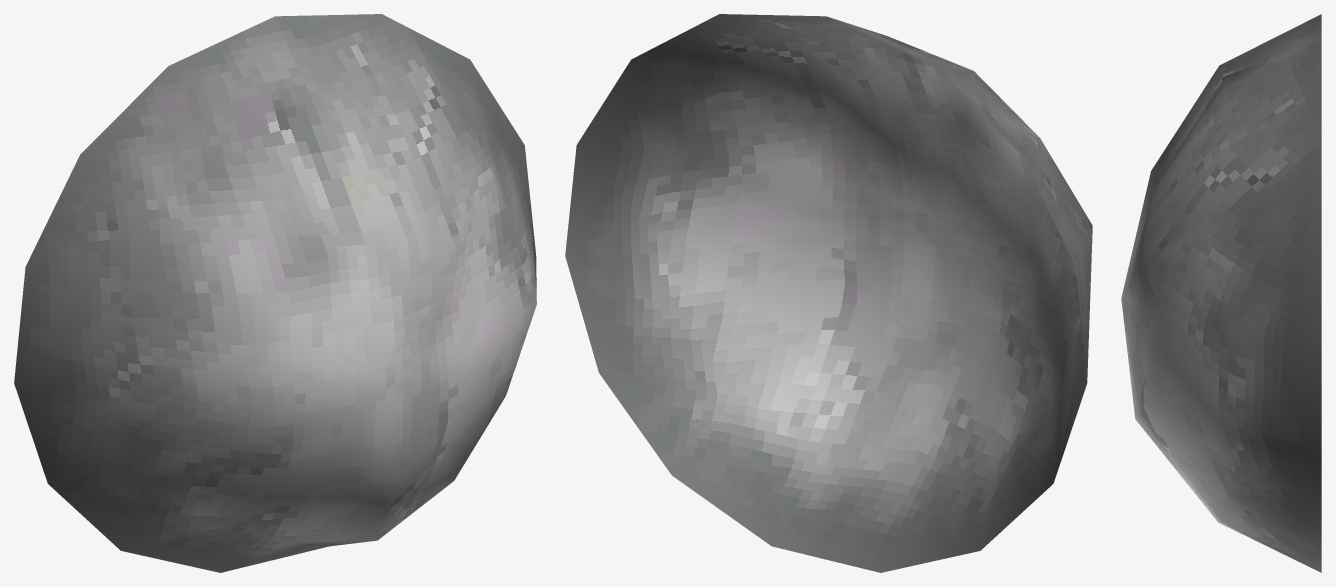
The model's file is INST_SWORDLIGHT_STONEA.fbx.
3 renders of one model, left to right at view 1: azimuth 30°, elevation 25°; view 2: azimuth 150°, elevation 25°; view 3: azimuth 270°, elevation 25°, orthographic. The views are drawn at different scales.
Parts seen in each view (by area): view 1: INST_SWORDLIGHT_STONEA; view 2: INST_SWORDLIGHT_STONEA; view 3: INST_SWORDLIGHT_STONEA.
Boxes of the visible parts, x1,y1,x2,y2 form: INST_SWORDLIGHT_STONEA: [14, 14, 536, 572]; INST_SWORDLIGHT_STONEA: [565, 14, 1092, 572]; INST_SWORDLIGHT_STONEA: [1121, 14, 1321, 572].
Size of the model in its own units: 16787 by 16695 by 5996.
Materials: 1 (1 with a texture image).
